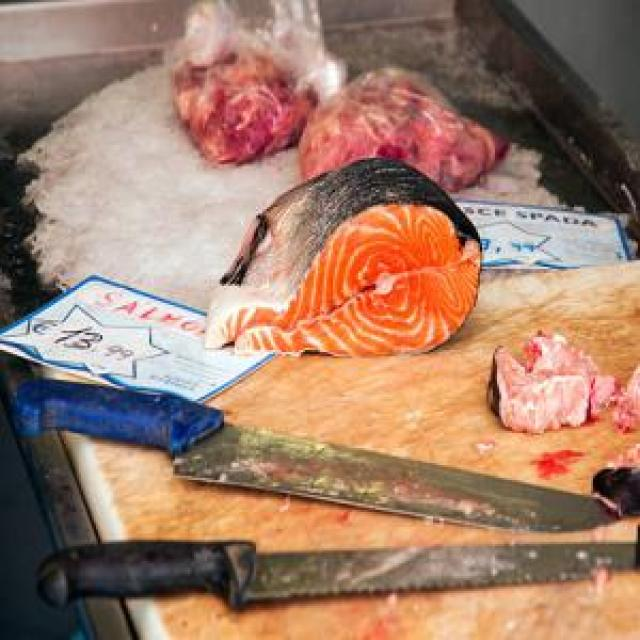knife: (11, 378, 622, 531), (36, 538, 638, 612)
